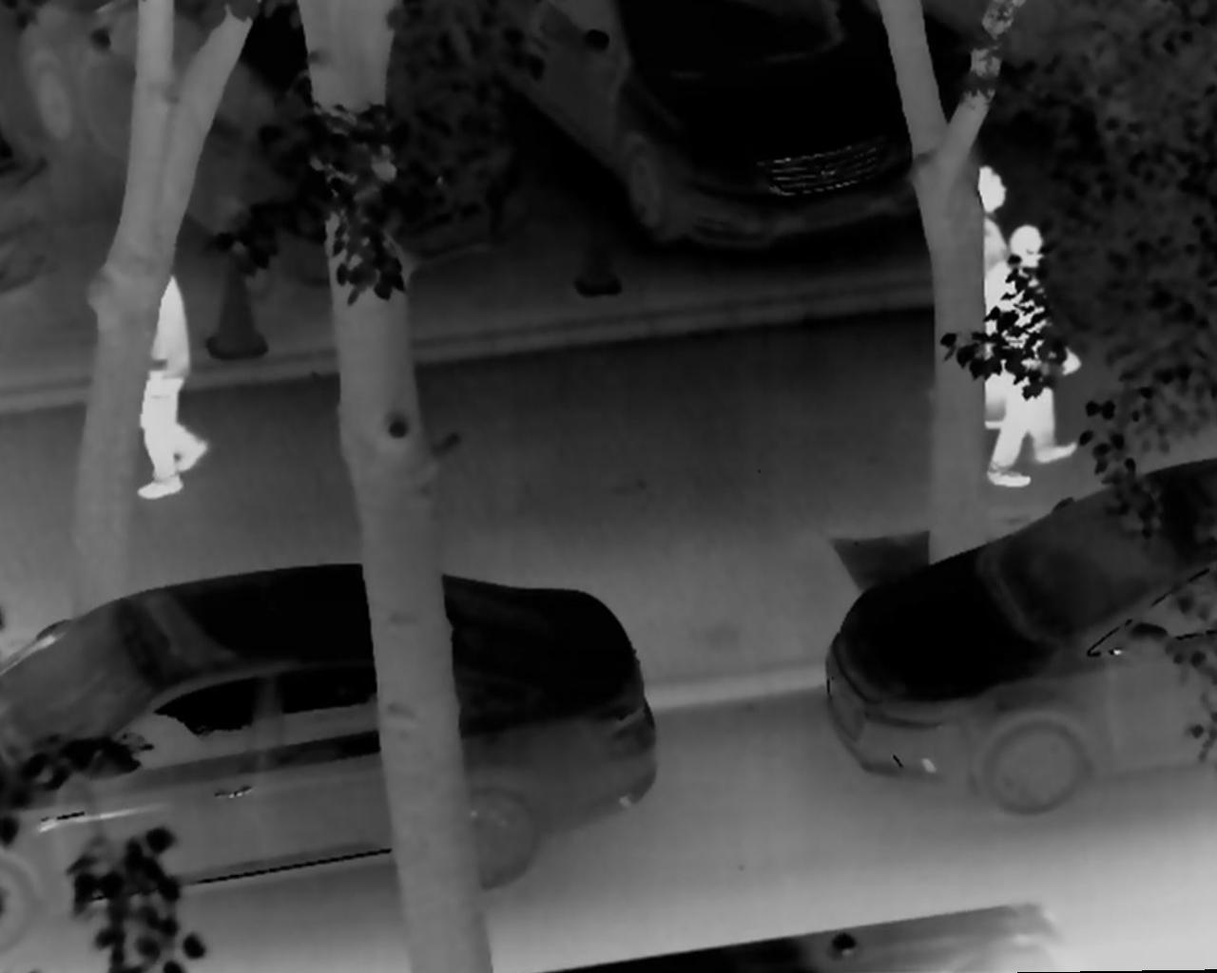person: (982, 217, 1085, 490), (108, 229, 209, 504), (942, 163, 1024, 431)
